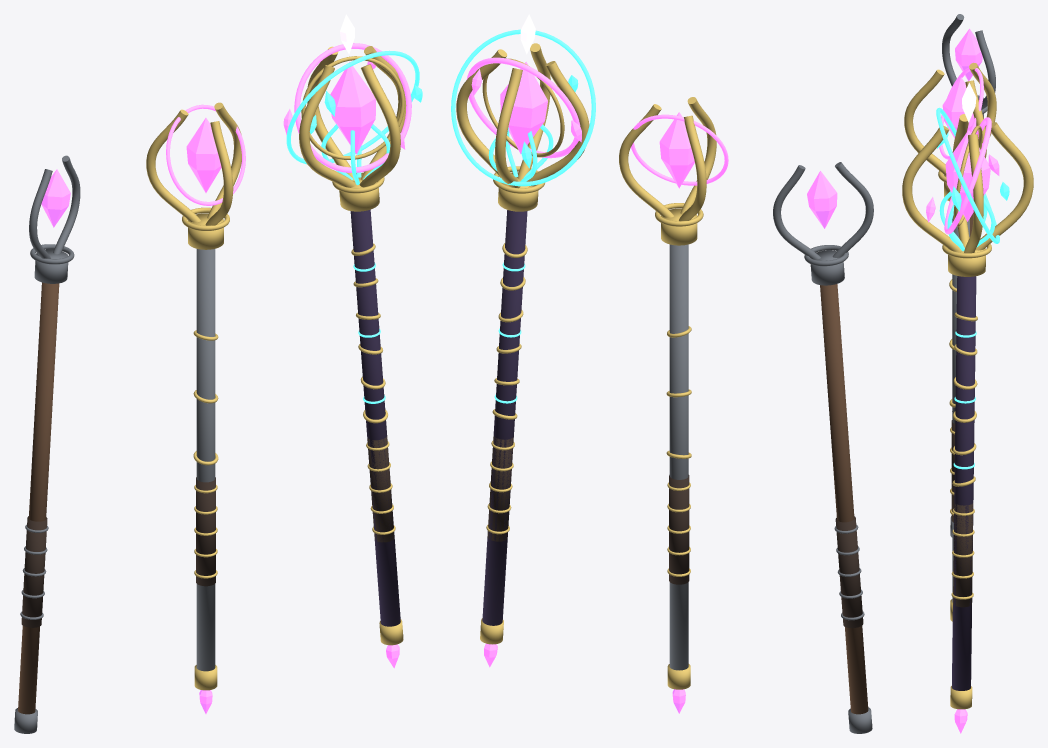
The model's file is hero_void_staff_evolution.glb.
3 renders of one model, left to right at view 1: azimuth 30°, elevation 25°; view 2: azimuth 150°, elevation 25°; view 3: azimuth 270°, elevation 25°, orthographic. The views are drawn at different scales.
Visible parts, largest first — view 1: VoidStaff_Tier3, VoidStaff_Tier3_Shaft, VoidStaff_Tier2_Shaft, VoidStaff_Tier1_Shaft, VoidStaff_Tier2, VoidStaff_Tier3_CoreOuter, VoidStaff_Tier1, VoidStaff_Tier1_Grip, VoidStaff_Tier2_Grip, VoidStaff_Tier3_Grip, VoidStaff_Tier3_HaloA, VoidStaff_Tier2_Core (+7 smaller); view 2: VoidStaff_Tier3, VoidStaff_Tier3_Shaft, VoidStaff_Tier2_Shaft, VoidStaff_Tier1_Shaft, VoidStaff_Tier2, VoidStaff_Tier1, VoidStaff_Tier3_HaloB, VoidStaff_Tier3_CoreOuter, VoidStaff_Tier1_Grip, VoidStaff_Tier2_Grip, VoidStaff_Tier3_Grip, VoidStaff_Tier2_Core (+7 smaller); view 3: VoidStaff_Tier3, VoidStaff_Tier3_Shaft, VoidStaff_Tier2, VoidStaff_Tier3_Grip, VoidStaff_Tier3_CoreOuter, VoidStaff_Tier1, VoidStaff_Tier3_HaloB, VoidStaff_Tier3_HaloA, VoidStaff_Tier1_Core, VoidStaff_Tier2_Core, VoidStaff_Tier2_Shaft, VoidStaff_Tier3_Collar (+7 smaller).
Part boxes in pixels (x1=…): VoidStaff_Tier3: x1=283, y1=46, x2=422, y2=534; VoidStaff_Tier3_Shaft: x1=350, y1=209, x2=400, y2=626; VoidStaff_Tier2_Shaft: x1=196, y1=249, x2=215, y2=671; VoidStaff_Tier1_Shaft: x1=18, y1=282, x2=59, y2=714; VoidStaff_Tier2: x1=146, y1=102, x2=241, y2=578; VoidStaff_Tier3_CoreOuter: x1=330, y1=62, x2=375, y2=154; VoidStaff_Tier1: x1=20, y1=155, x2=80, y2=619; VoidStaff_Tier1_Grip: x1=21, y1=516, x2=47, y2=627; VoidStaff_Tier2_Grip: x1=196, y1=477, x2=215, y2=586; VoidStaff_Tier3_Grip: x1=367, y1=435, x2=394, y2=542; VoidStaff_Tier3_HaloA: x1=294, y1=43, x2=411, y2=172; VoidStaff_Tier2_Core: x1=186, y1=118, x2=221, y2=192; VoidStaff_Tier3: x1=456, y1=43, x2=589, y2=534; VoidStaff_Tier3_Shaft: x1=482, y1=210, x2=527, y2=625; VoidStaff_Tier2_Shaft: x1=669, y1=244, x2=688, y2=670; VoidStaff_Tier1_Shaft: x1=820, y1=284, x2=868, y2=714; VoidStaff_Tier2: x1=619, y1=97, x2=716, y2=576; VoidStaff_Tier1: x1=773, y1=162, x2=873, y2=620; VoidStaff_Tier3_HaloB: x1=451, y1=29, x2=595, y2=186; VoidStaff_Tier3_CoreOuter: x1=500, y1=61, x2=547, y2=153; VoidStaff_Tier1_Grip: x1=835, y1=516, x2=863, y2=628; VoidStaff_Tier2_Grip: x1=669, y1=475, x2=689, y2=584; VoidStaff_Tier3_Grip: x1=487, y1=436, x2=513, y2=541; VoidStaff_Tier2_Core: x1=659, y1=112, x2=694, y2=188; VoidStaff_Tier3: x1=902, y1=114, x2=1033, y2=599; VoidStaff_Tier3_Shaft: x1=952, y1=276, x2=976, y2=690; VoidStaff_Tier2: x1=904, y1=62, x2=996, y2=515; VoidStaff_Tier3_Grip: x1=953, y1=503, x2=973, y2=607; VoidStaff_Tier3_CoreOuter: x1=945, y1=130, x2=990, y2=221; VoidStaff_Tier1: x1=942, y1=14, x2=995, y2=411; VoidStaff_Tier3_HaloB: x1=936, y1=107, x2=999, y2=243; VoidStaff_Tier3_HaloA: x1=944, y1=117, x2=991, y2=234; VoidStaff_Tier1_Core: x1=955, y1=28, x2=982, y2=81; VoidStaff_Tier2_Core: x1=942, y1=77, x2=974, y2=138; VoidStaff_Tier2_Shaft: x1=952, y1=215, x2=969, y2=602; VoidStaff_Tier3_Collar: x1=948, y1=248, x2=985, y2=276.
Size of the model in its own units: 1.4 by 2.17 by 0.4105.
